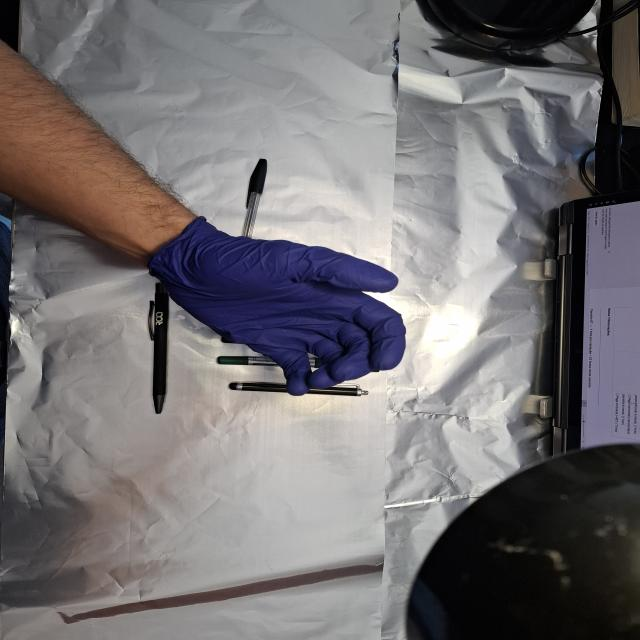glove_on: (150, 217, 412, 399)
